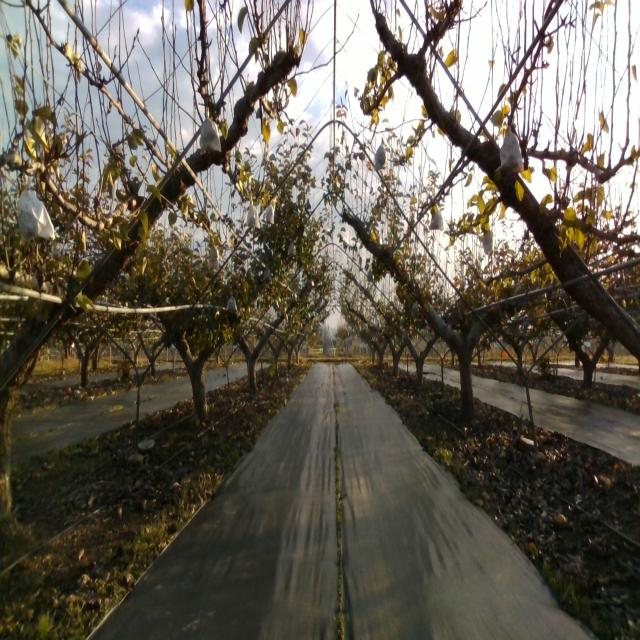pearbags: (17, 176, 56, 242), (495, 127, 524, 174), (200, 107, 222, 155), (246, 201, 261, 230), (429, 203, 444, 230), (374, 138, 386, 171), (208, 243, 220, 271), (482, 229, 493, 254), (264, 203, 275, 226), (226, 293, 237, 315)
